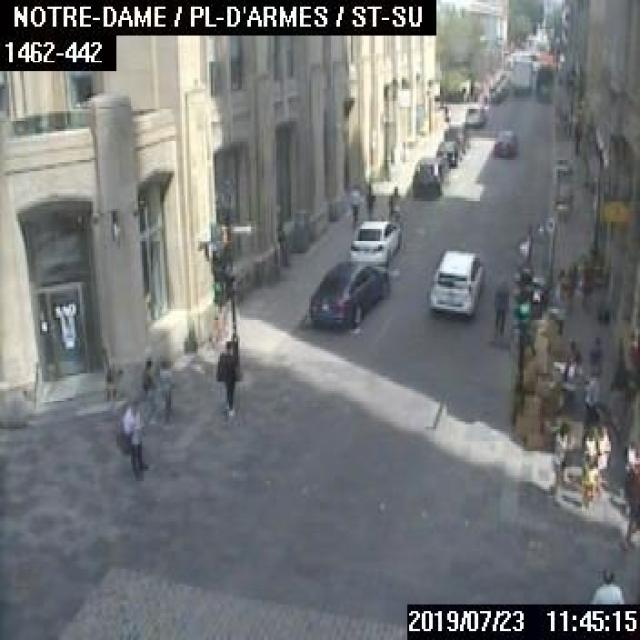pedestrian: (552, 258, 594, 331), (115, 398, 144, 474), (620, 453, 638, 547), (216, 334, 236, 414), (548, 420, 568, 498), (155, 353, 176, 419), (589, 564, 624, 602), (581, 363, 600, 426), (140, 354, 157, 417), (491, 278, 507, 336), (579, 450, 595, 506), (347, 182, 358, 227), (387, 184, 400, 218), (364, 182, 374, 216)
vehicle: (306, 258, 386, 324), (426, 246, 484, 316), (348, 216, 402, 266), (409, 156, 446, 196), (510, 54, 533, 92), (434, 138, 461, 168), (443, 124, 468, 152), (491, 129, 514, 155), (464, 104, 486, 126)
